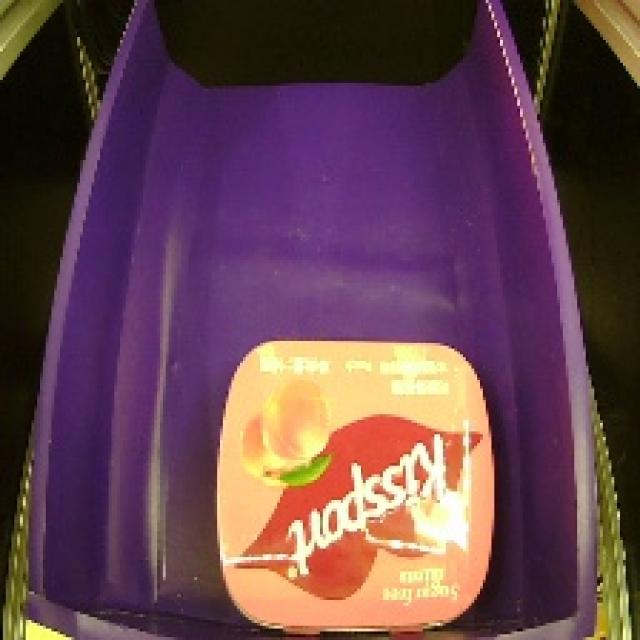metal: (197, 317, 508, 640)
